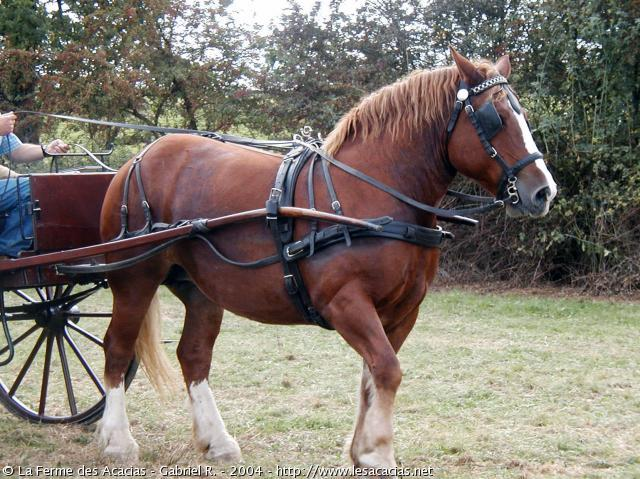horse: (84, 41, 564, 479)
